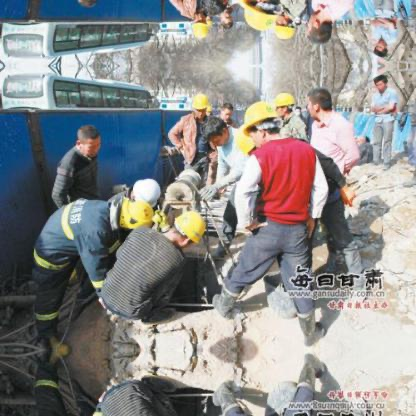No Safety Helmet: (71, 120, 114, 162), (305, 2, 337, 50), (301, 83, 336, 126), (200, 116, 233, 154), (368, 69, 393, 95), (216, 5, 235, 32), (371, 33, 392, 57), (219, 101, 239, 125)
Safety Helmet: (235, 97, 291, 155), (164, 205, 210, 263), (107, 193, 155, 243), (238, 1, 286, 33), (131, 175, 169, 207), (271, 89, 301, 123), (185, 86, 212, 123), (185, 10, 214, 43), (271, 9, 298, 40)
